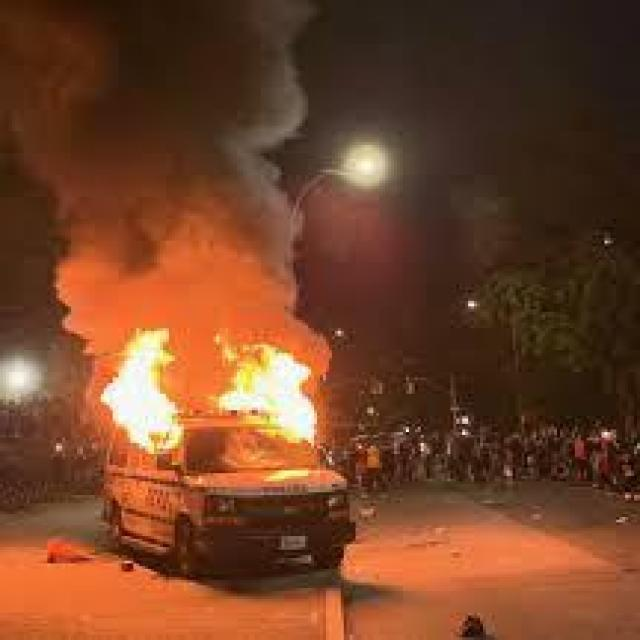Fire: (89, 314, 341, 476)
Smoke: (2, 2, 322, 316)
